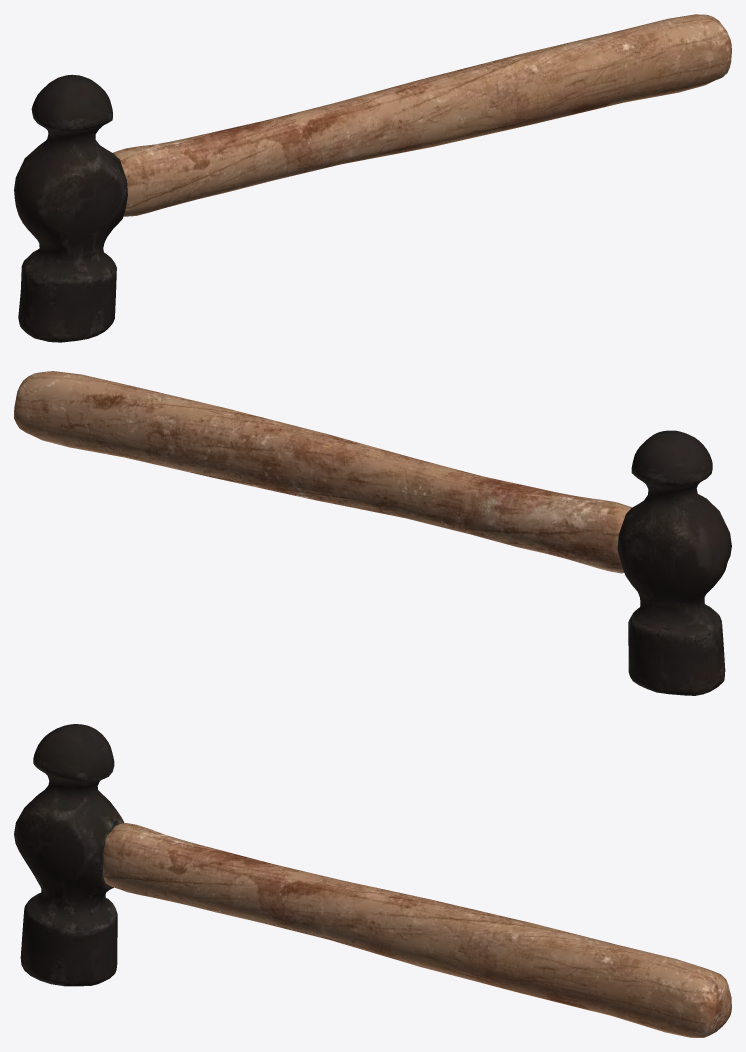
Rendered from w_martillo.glb.
3 views of the same model, one above another, from view 1: azimuth 30°, elevation 25°; view 2: azimuth 150°, elevation 25°; view 3: azimuth 330°, elevation 25° (orthographic).
Visible parts, largest first — view 1: Object_2; view 2: Object_2; view 3: Object_2.
Part boxes in pixels (<box>): Object_2: <box>14,14,731,342</box>; Object_2: <box>14,371,731,695</box>; Object_2: <box>14,724,731,1037</box>.
Size of the model in its own units: 0.33 by 0.1111 by 0.0358.
1 material, 1 textured.
